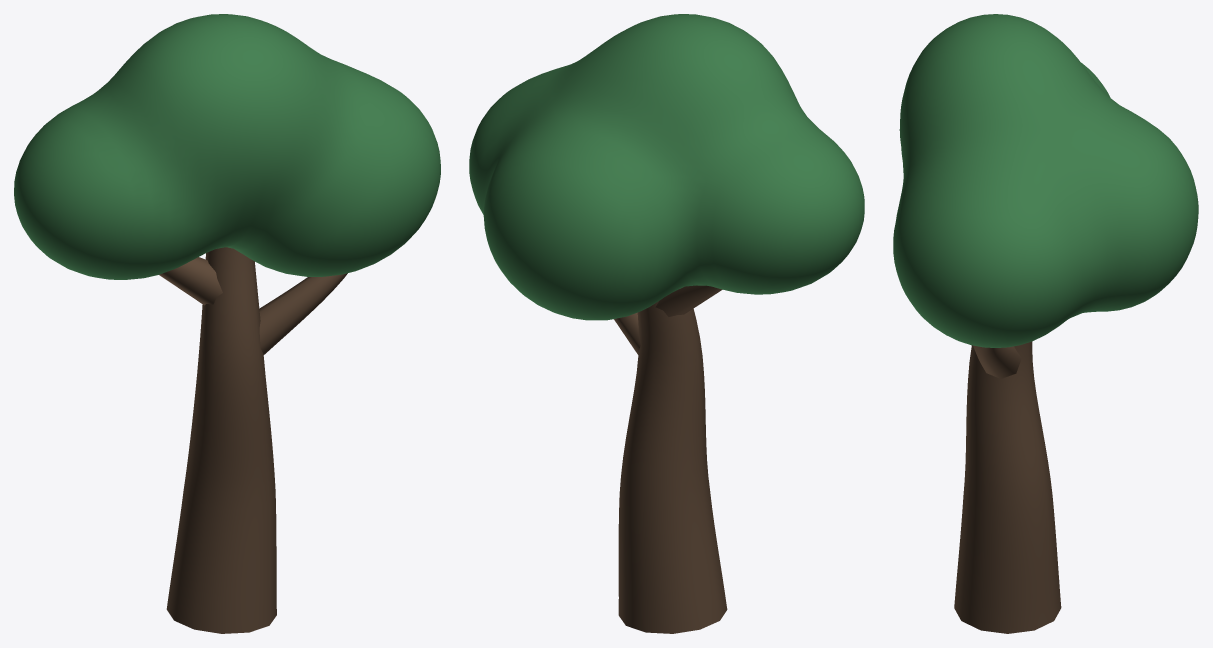
File: tree_1.glb
The picture shows the model from 3 angles, left to right: view 1: azimuth 30°, elevation 25°; view 2: azimuth 150°, elevation 25°; view 3: azimuth 270°, elevation 25°; orthographic projection. The views are drawn at different scales.
Parts seen in each view (by area): view 1: tree_canopy, tree_trunk, tree_branch_0, tree_branch_1; view 2: tree_canopy, tree_trunk, tree_branch_1, tree_branch_0; view 3: tree_canopy, tree_trunk, tree_branch_0.
Part boxes in pixels (bbox=[...]): tree_canopy: bbox=[14, 14, 440, 279]; tree_trunk: bbox=[166, 247, 276, 633]; tree_branch_0: bbox=[259, 273, 347, 354]; tree_branch_1: bbox=[159, 257, 222, 305]; tree_canopy: bbox=[469, 14, 864, 320]; tree_trunk: bbox=[618, 301, 727, 633]; tree_branch_1: bbox=[655, 285, 722, 316]; tree_branch_0: bbox=[614, 312, 640, 354]; tree_canopy: bbox=[893, 14, 1198, 347]; tree_trunk: bbox=[954, 341, 1061, 633]; tree_branch_0: bbox=[973, 345, 1021, 378].
Size of the model in its own units: 3.43 by 5.03 by 2.39.
